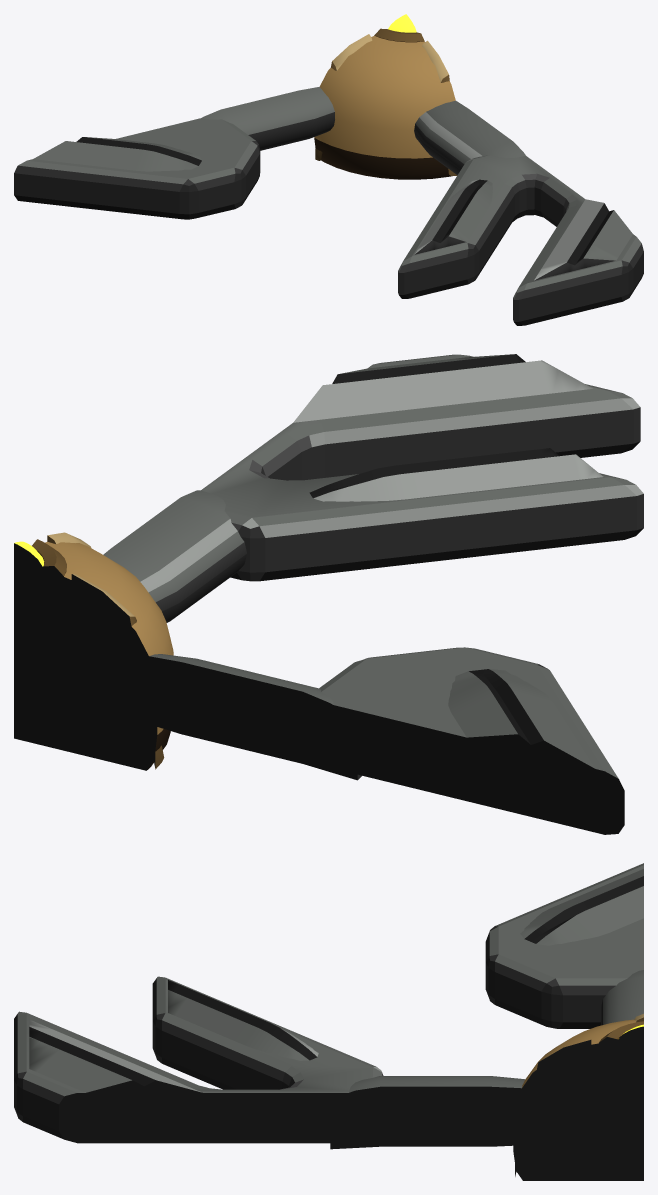
File: spin_claw_47.glb
The picture shows the model from 3 angles, top to bottom: view 1: azimuth 30°, elevation 25°; view 2: azimuth 150°, elevation 25°; view 3: azimuth 270°, elevation 25°; orthographic projection. The views are drawn at different scales.
Parts seen in each view (by area): view 1: spin_claw_47_arm2_plate, spin_claw_47_arm3_plate, spin_claw_47_hub_dome, spin_claw_47_arm3_rod, spin_claw_47_arm2_rod, spin_claw_47_arm2_ridge0, spin_claw_47_arm3_ridge0, spin_claw_47_arm2_ridge1, spin_claw_47_hub_rib3, spin_claw_47_hub_bezel, spin_claw_47_hub_rib2; view 2: spin_claw_47_arm2_plate, spin_claw_47_arm3_plate, spin_claw_47_hub_dome, spin_claw_47_arm3_rod, spin_claw_47_arm2_ridge0, spin_claw_47_arm2_rod, spin_claw_47_arm3_ridge0, spin_claw_47_arm2_ridge1, spin_claw_47_hub_rib3, spin_claw_47_hub_bezel, spin_claw_47_hub_lens; view 3: spin_claw_47_arm2_plate, spin_claw_47_hub_dome, spin_claw_47_arm2_rod, spin_claw_47_arm3_plate, spin_claw_47_arm2_ridge0, spin_claw_47_arm3_ridge0, spin_claw_47_arm2_ridge1, spin_claw_47_arm3_rod, spin_claw_47_hub_rib2, spin_claw_47_hub_lens, spin_claw_47_hub_bezel.
Part boxes in pixels (x1,y1,x2,y2): spin_claw_47_arm2_plate: (398,155,643,325); spin_claw_47_arm3_plate: (14,118,260,219); spin_claw_47_hub_dome: (314,35,455,179); spin_claw_47_arm3_rod: (202,87,334,150); spin_claw_47_arm2_rod: (414,100,525,174); spin_claw_47_arm2_ridge0: (534,199,632,280); spin_claw_47_arm3_ridge0: (33,137,201,171); spin_claw_47_arm2_ridge1: (414,179,492,254); spin_claw_47_hub_rib3: (315,34,372,160); spin_claw_47_hub_bezel: (374,28,424,42); spin_claw_47_hub_rib2: (422,40,457,175); spin_claw_47_arm2_plate: (201,354,643,581); spin_claw_47_arm3_plate: (297,647,624,834); spin_claw_47_hub_dome: (14,541,173,770); spin_claw_47_arm3_rod: (102,648,361,780); spin_claw_47_arm2_ridge0: (293,354,592,422); spin_claw_47_arm2_rod: (103,490,246,622); spin_claw_47_arm3_ridge0: (448,669,607,780); spin_claw_47_arm2_ridge1: (309,448,603,501); spin_claw_47_hub_rib3: (71,574,164,769); spin_claw_47_hub_bezel: (14,539,66,587); spin_claw_47_hub_lens: (14,541,44,586); spin_claw_47_arm2_plate: (14,976,385,1143); spin_claw_47_hub_dome: (513,1019,643,1180); spin_claw_47_arm2_rod: (330,1076,563,1149); spin_claw_47_arm3_plate: (485,863,643,1028); spin_claw_47_arm2_ridge0: (29,1019,214,1102); spin_claw_47_arm3_ridge0: (520,869,643,945); spin_claw_47_arm2_ridge1: (168,980,318,1060); spin_claw_47_arm3_rod: (601,970,643,1025); spin_claw_47_hub_rib2: (515,1040,591,1176); spin_claw_47_hub_lens: (616,1024,643,1055); spin_claw_47_hub_bezel: (598,1021,643,1052).
Bounding box in the file's own units: 20.08 × 6.14 × 22.7.
